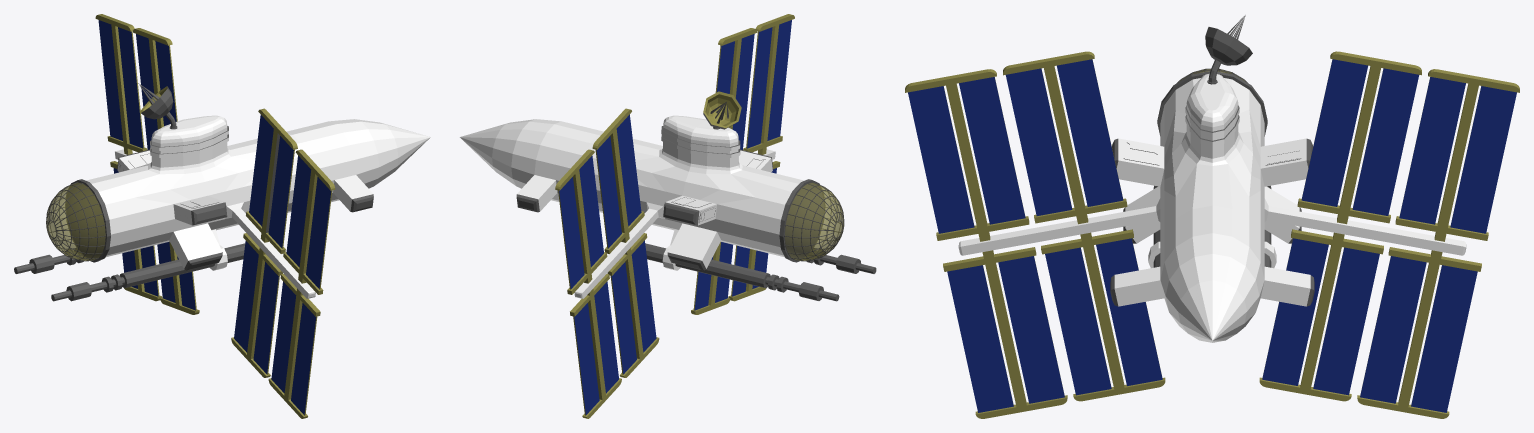
Rendered from Rapier06_Exterior.fbx.
The picture shows the model from 3 angles, left to right: view 1: azimuth 30°, elevation 25°; view 2: azimuth 150°, elevation 25°; view 3: azimuth 270°, elevation 25°; orthographic projection. The views are drawn at different scales.
Parts seen in each view (by area): view 1: Ship, GlassDome; view 2: Ship, GlassDome; view 3: Ship.
Part boxes in pixels (bbox=[...]): Ship: bbox=[14, 14, 430, 418]; GlassDome: bbox=[46, 182, 105, 261]; Ship: bbox=[459, 14, 876, 418]; GlassDome: bbox=[784, 182, 844, 261]; Ship: bbox=[905, 15, 1519, 418].
Bounding box in the file's own units: 1150 × 773 × 1181.
